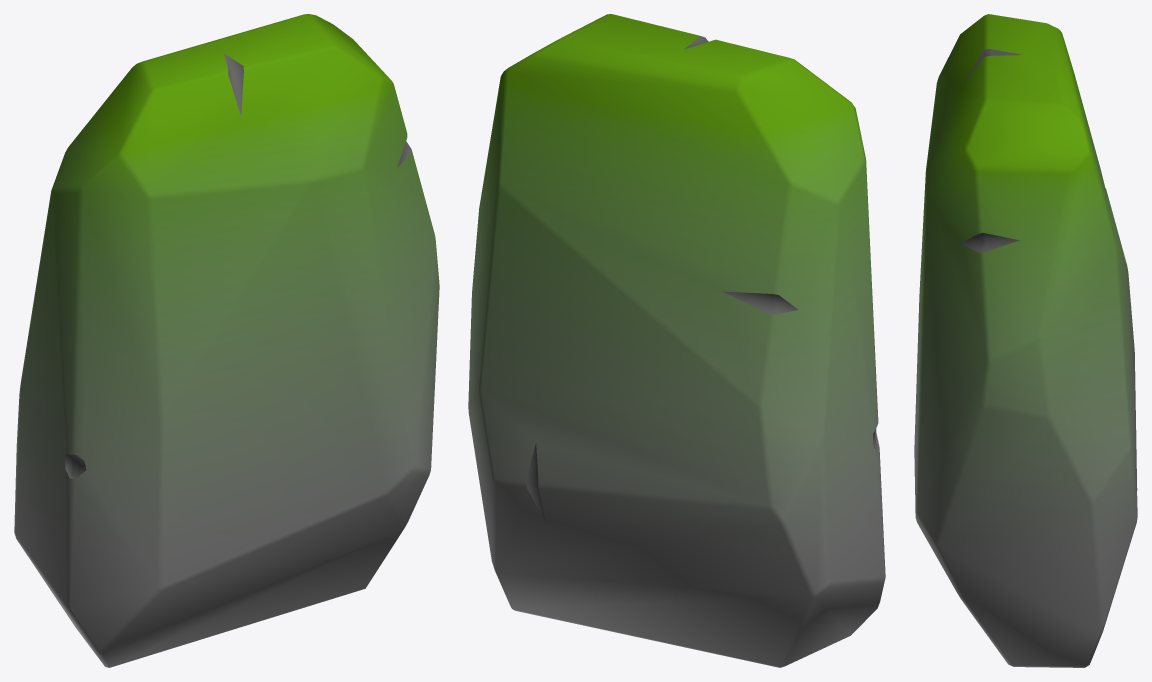
Rendered from Rock02_1.fbx.
The picture shows the model from 3 angles, left to right: view 1: azimuth 30°, elevation 25°; view 2: azimuth 150°, elevation 25°; view 3: azimuth 270°, elevation 25°; orthographic projection. The views are drawn at different scales.
Visible parts, largest first — view 1: LOD0; view 2: LOD0; view 3: LOD0.
Boxes of the visible parts, box(x1,y1,x2,y2) form: LOD0: box(14, 14, 439, 667); LOD0: box(468, 14, 885, 667); LOD0: box(914, 14, 1137, 667).
Size of what is drawn, in the model's own units: 305 by 162 by 440.
